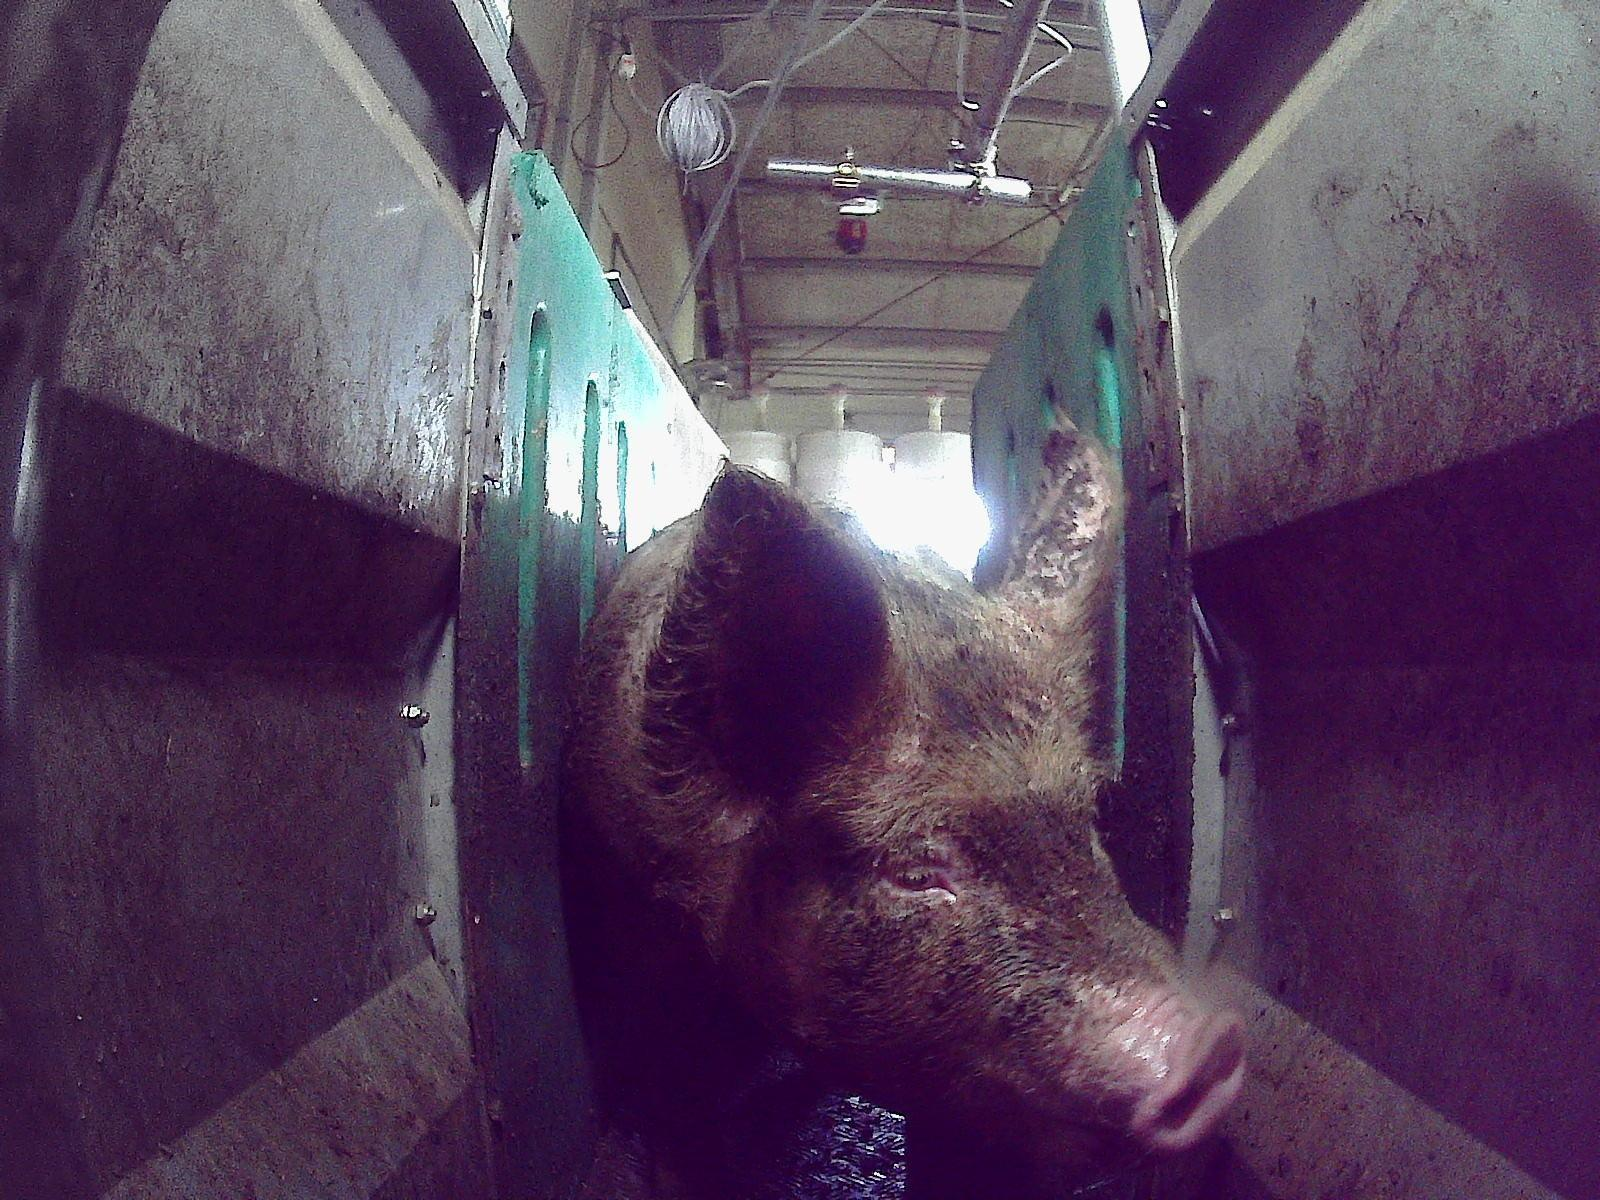Face: (692, 587, 1243, 1180)
